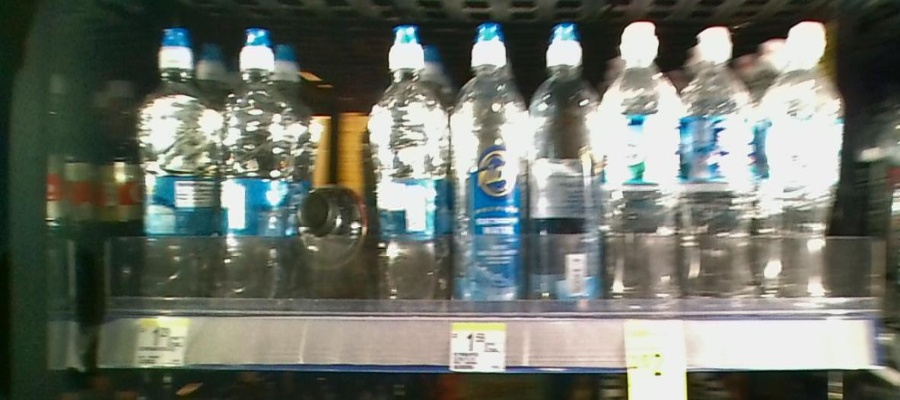bottle: (133, 25, 219, 300), (370, 22, 448, 310), (684, 21, 761, 311), (528, 22, 603, 313), (453, 20, 524, 314), (769, 21, 838, 316), (609, 21, 678, 308), (223, 29, 291, 310), (297, 171, 367, 281)
